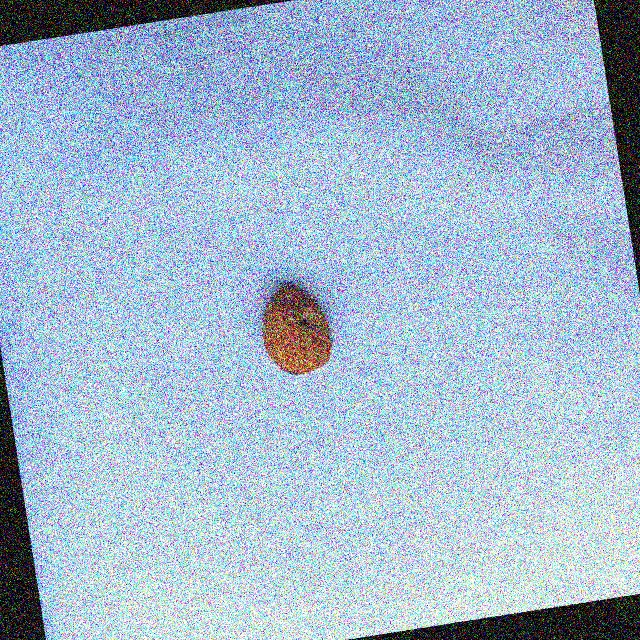grade3: (253, 275, 342, 384)
